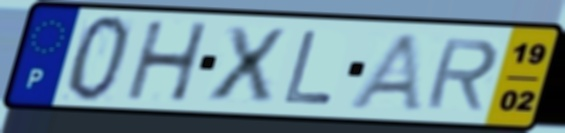0: (63, 13, 134, 104)
A: (344, 31, 425, 114)
H: (124, 20, 213, 104)
L: (280, 28, 337, 107)
R: (421, 37, 502, 113)
X: (205, 23, 291, 104)
